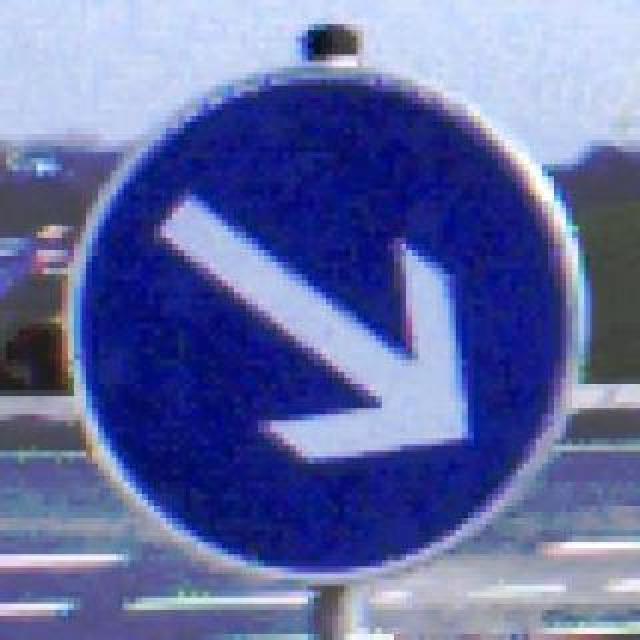keep right: (56, 56, 584, 580)
